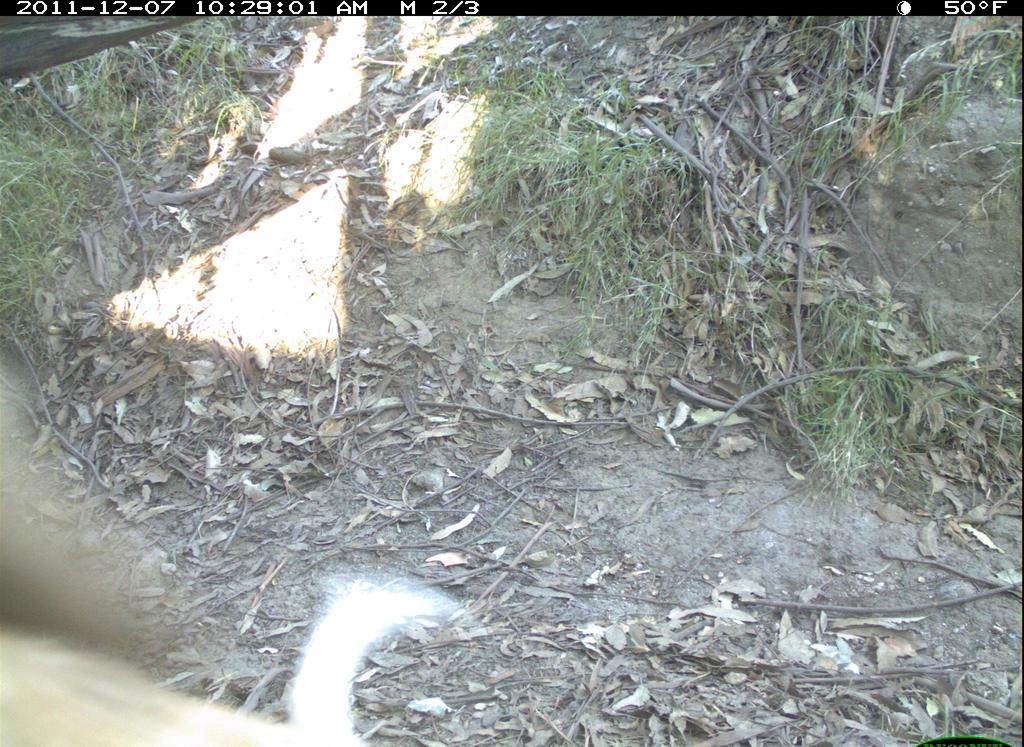dog: (1, 373, 461, 747)
